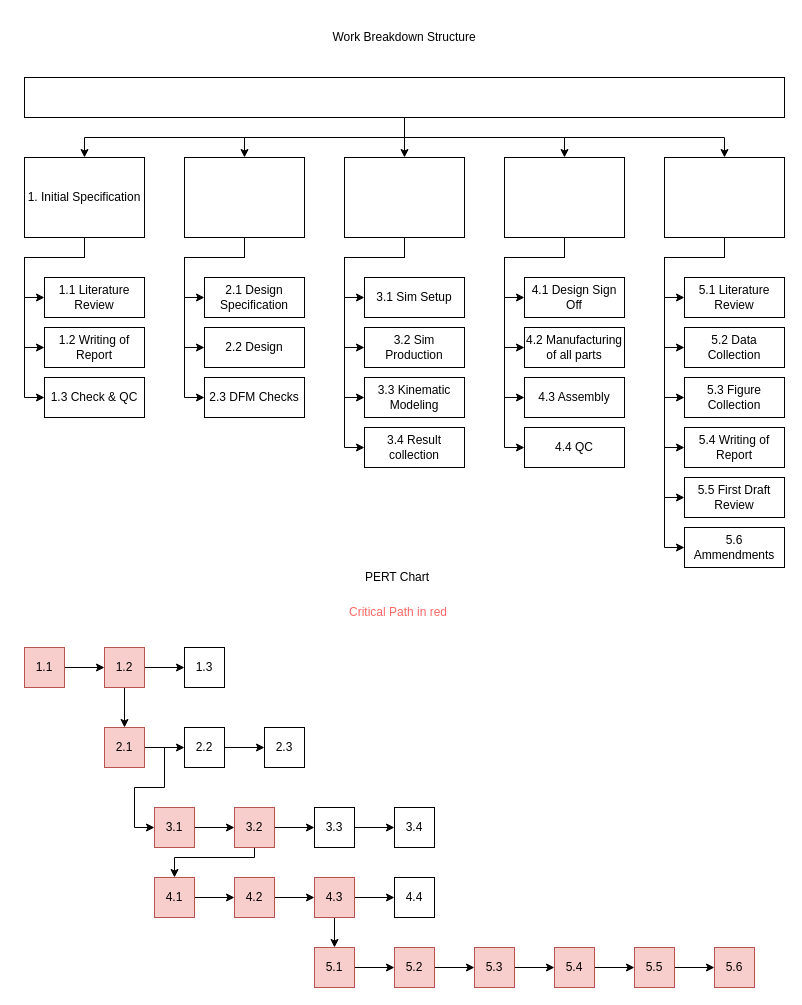
Some shapes in this 802 by 1005 pixel diagram are drawn without their labels. The shapes that lost their labels are listed below. From the top down, each one's centre as x and y in pixels, then its label:
the point at 404,97: Project: Tripteron 3D Printer
the point at 244,197: 2. Initial Design
the point at 404,197: 3. Simulation
the point at 564,197: 4. Manufacturing
the point at 724,197: 5. Final Report Writing
